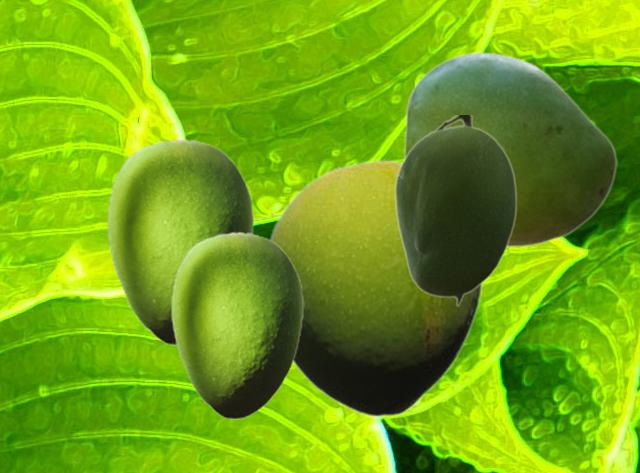green_mango: (266, 159, 483, 417), (403, 51, 616, 247), (106, 138, 253, 344), (170, 231, 303, 418), (393, 115, 516, 306)
